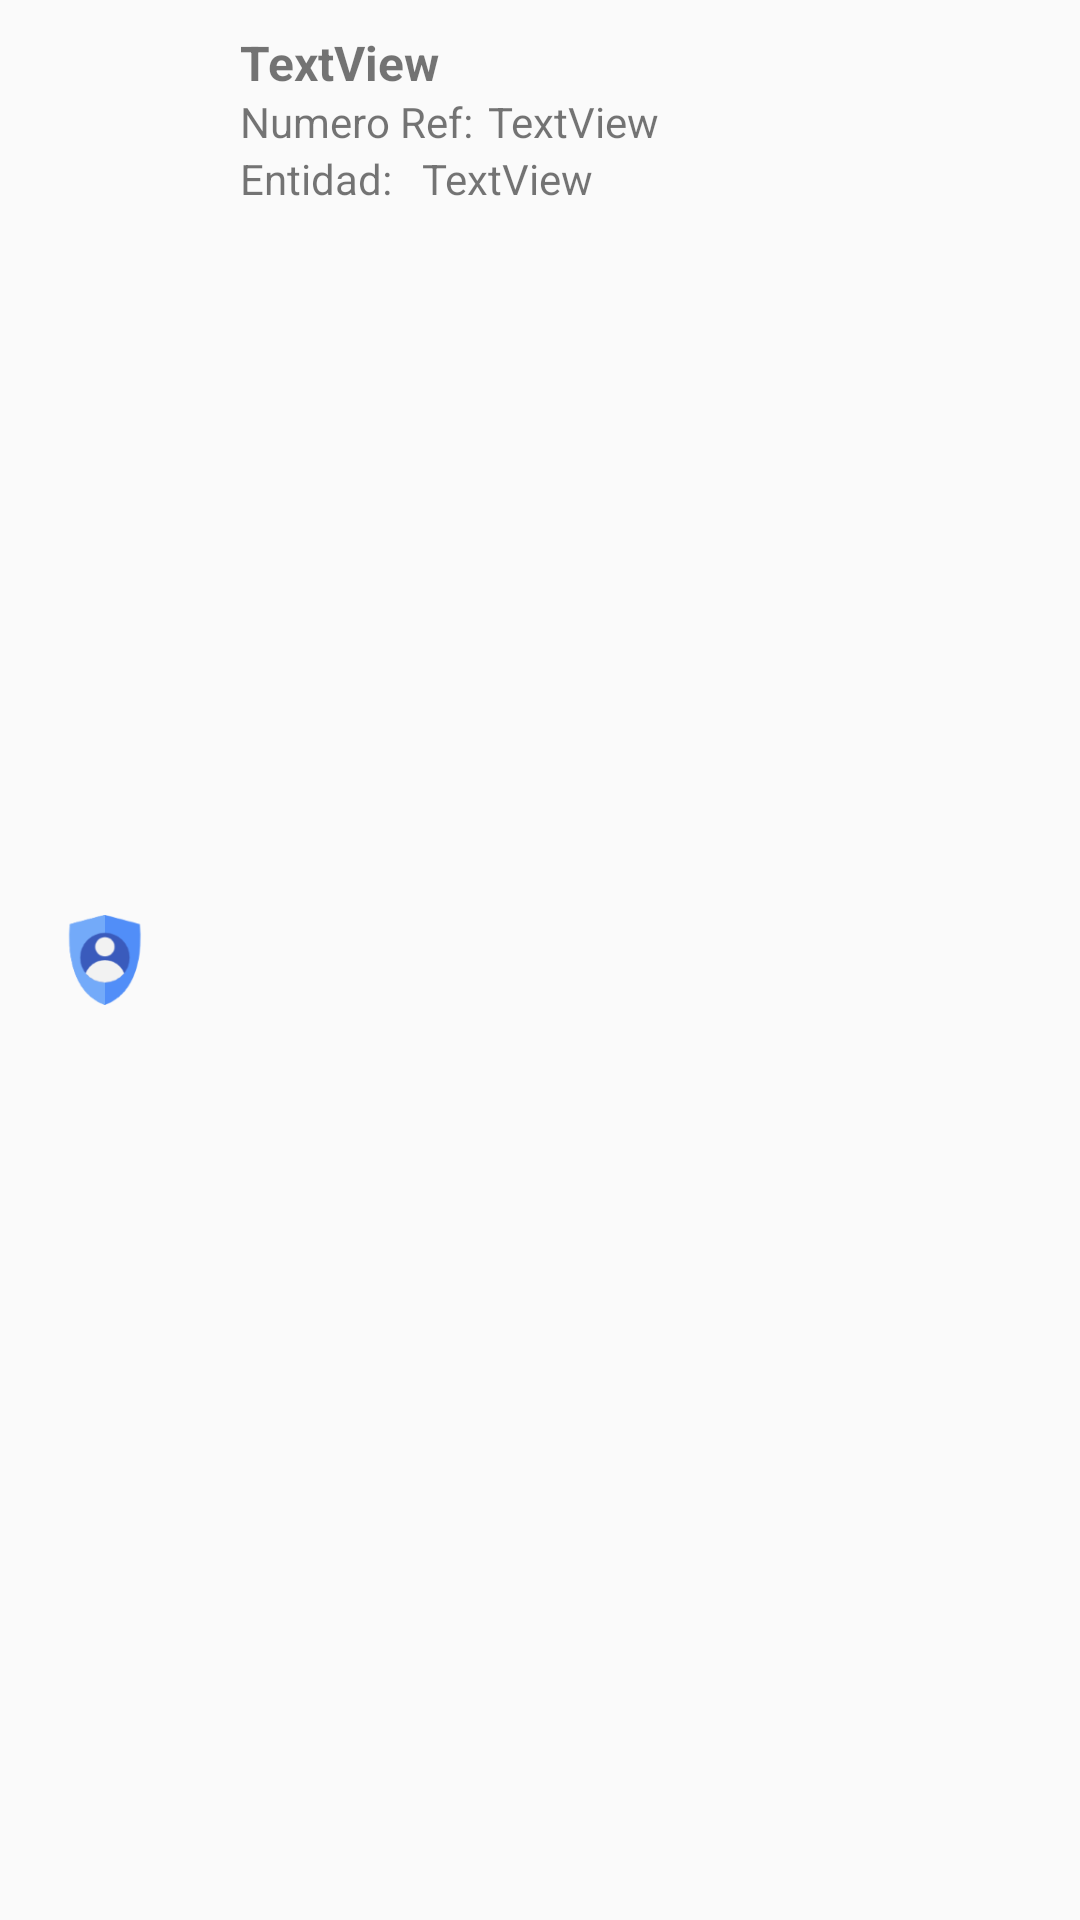

Icons on this 1080w x 1920h Android screen, each with its box as (x1, y1, x2, y2):
cuenta: (69, 915, 141, 1005)
